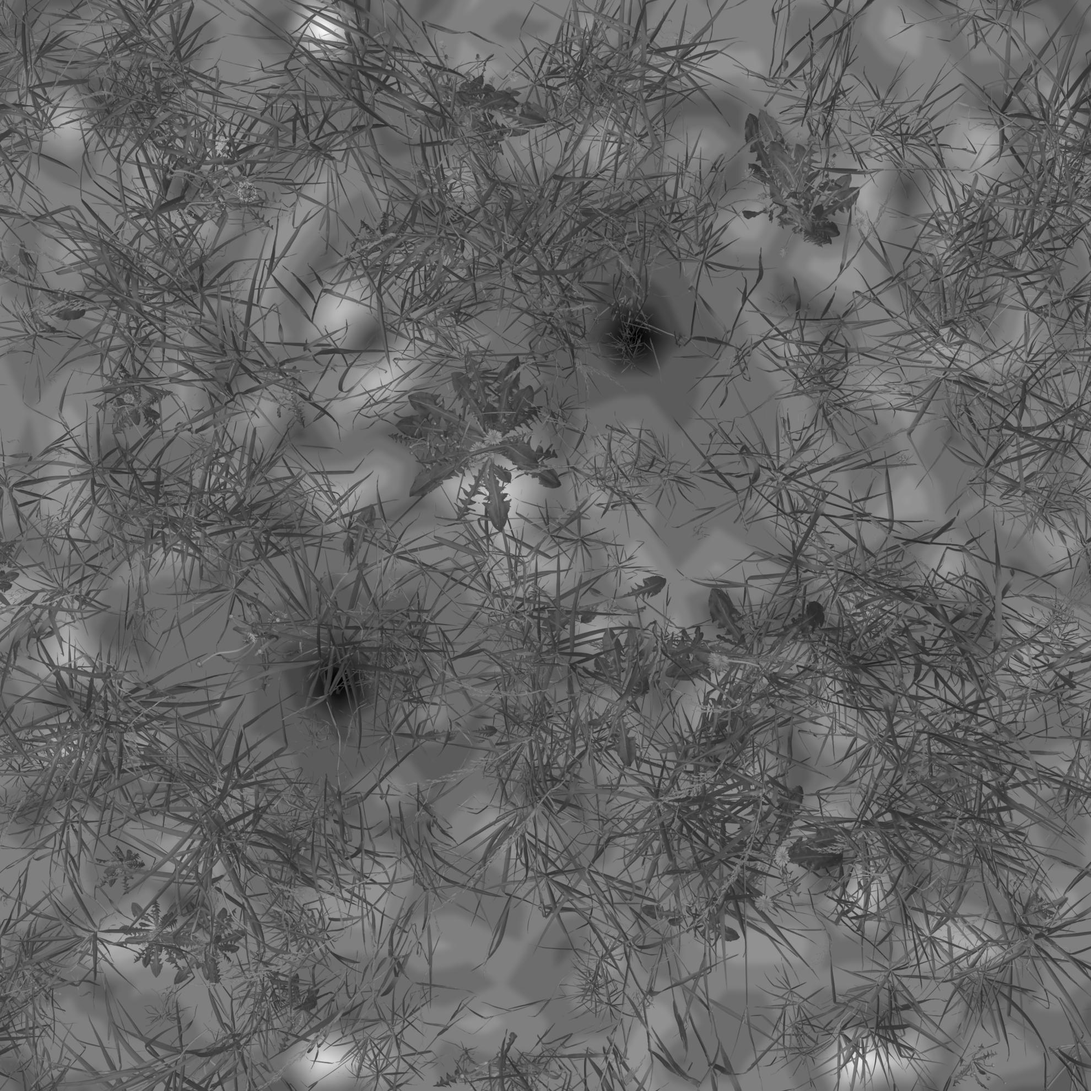landmine: (568, 268, 700, 398), (278, 626, 398, 744)
